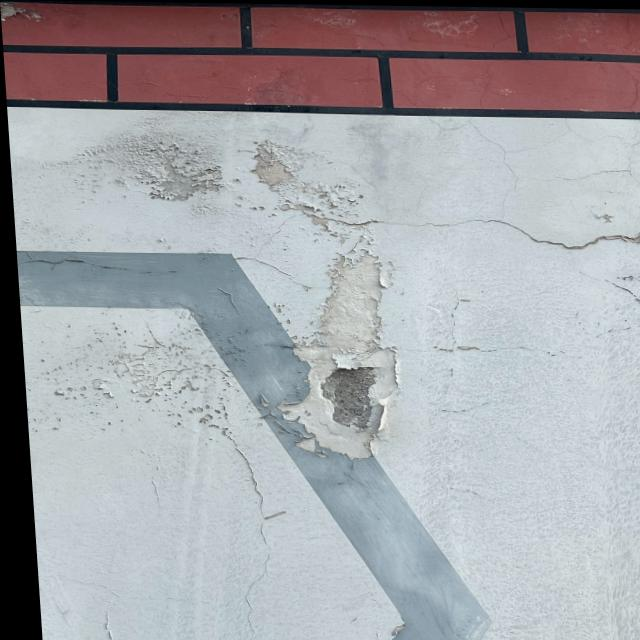crack: (187, 403, 287, 640), (362, 213, 640, 251)
spalling: (268, 229, 418, 465)
